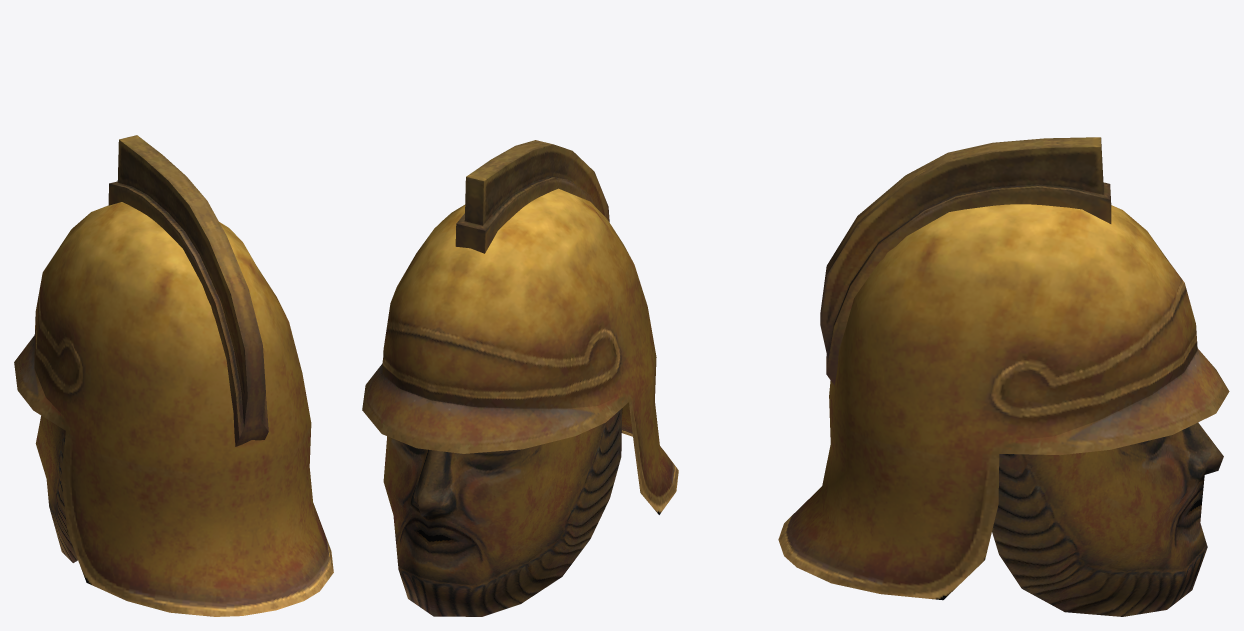
The model's file is helm_hele_thracian_romanized_b2_crested.glb.
3 renders of one model, left to right at view 1: azimuth 30°, elevation 25°; view 2: azimuth 150°, elevation 25°; view 3: azimuth 270°, elevation 25°, orthographic. The views are drawn at different scales.
Visible parts, largest first — view 1: helm_hele_thracian_romanized_b2_crested_part0, helm_hele_thracian_romanized_b2_crested_part2, helm_hele_thracian_romanized_b2_crested_part1; view 2: helm_hele_thracian_romanized_b2_crested_part0, helm_hele_thracian_romanized_b2_crested_part1, helm_hele_thracian_romanized_b2_crested_part2; view 3: helm_hele_thracian_romanized_b2_crested_part0, helm_hele_thracian_romanized_b2_crested_part1, helm_hele_thracian_romanized_b2_crested_part2.
Boxes of the visible parts, left/top/right/bottom form: helm_hele_thracian_romanized_b2_crested_part0: left=14, top=202, right=333, bottom=616; helm_hele_thracian_romanized_b2_crested_part2: left=108, top=135, right=268, bottom=446; helm_hele_thracian_romanized_b2_crested_part1: left=35, top=415, right=77, bottom=562; helm_hele_thracian_romanized_b2_crested_part0: left=362, top=188, right=678, bottom=514; helm_hele_thracian_romanized_b2_crested_part1: left=383, top=408, right=622, bottom=616; helm_hele_thracian_romanized_b2_crested_part2: left=455, top=140, right=609, bottom=253; helm_hele_thracian_romanized_b2_crested_part0: left=778, top=204, right=1229, bottom=600; helm_hele_thracian_romanized_b2_crested_part1: left=992, top=422, right=1223, bottom=616; helm_hele_thracian_romanized_b2_crested_part2: left=820, top=137, right=1111, bottom=385.
Bounding box in the file's own units: 0.4644 × 1.03 × 0.8465.
4 materials, 4 textured.
